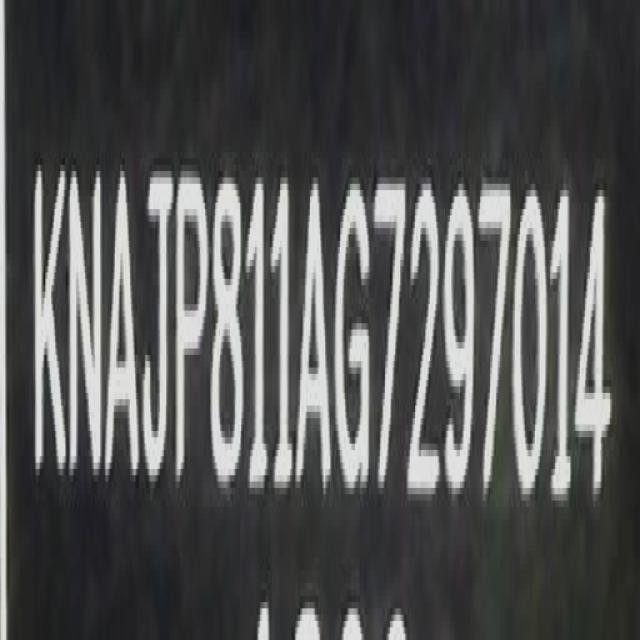0: (516, 173, 550, 503)
1: (270, 181, 295, 495), (554, 176, 574, 509), (248, 166, 268, 499)
2: (410, 175, 442, 502)
4: (576, 182, 617, 511)
7: (478, 171, 511, 508), (377, 167, 408, 510)
8: (212, 169, 244, 500)
9: (445, 174, 477, 504)
A: (296, 168, 336, 494), (108, 165, 142, 485)
G: (334, 161, 374, 501)
J: (142, 166, 177, 482)
K: (28, 157, 70, 495)
N: (65, 153, 104, 492)
P: (177, 166, 212, 498)
